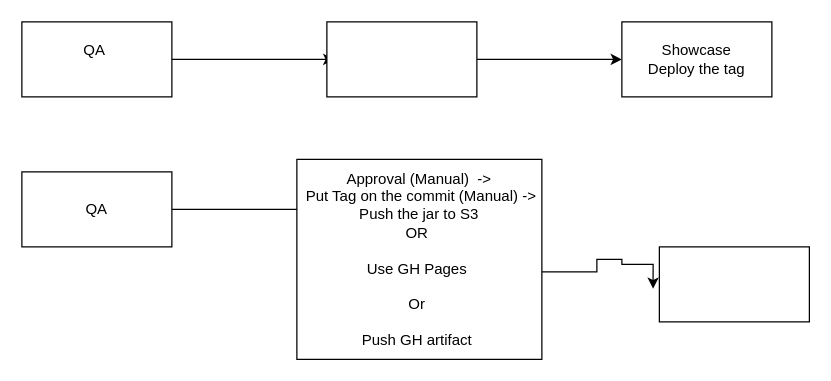
Some shapes in this 831 by 381 pixel diagram are drawn without their labels. The centre of each missing label's shape, as x and y in pixels:
"Approval (Manual) -> Put Tag on the commit (Manual)" belongs at pixel 401 59.
"Showcase Pull the tag from S3" belongs at pixel 733 284.
